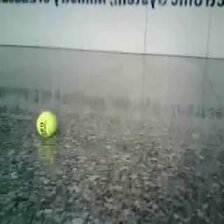tennis: (36, 111, 58, 140)
